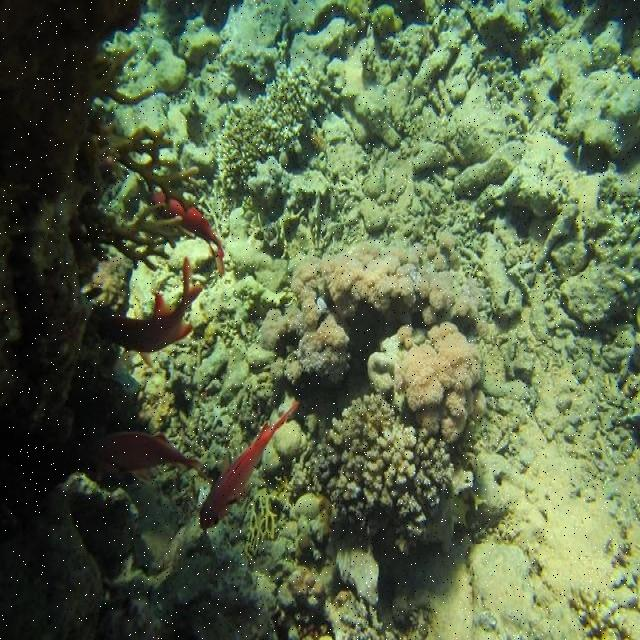fish: (198, 402, 294, 529), (102, 258, 204, 351), (151, 191, 225, 277), (100, 432, 205, 483)
reefs: (255, 229, 485, 443), (307, 394, 472, 554)
